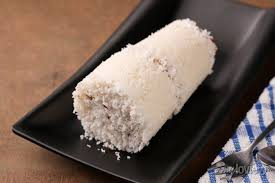pittu: (75, 18, 219, 158)
